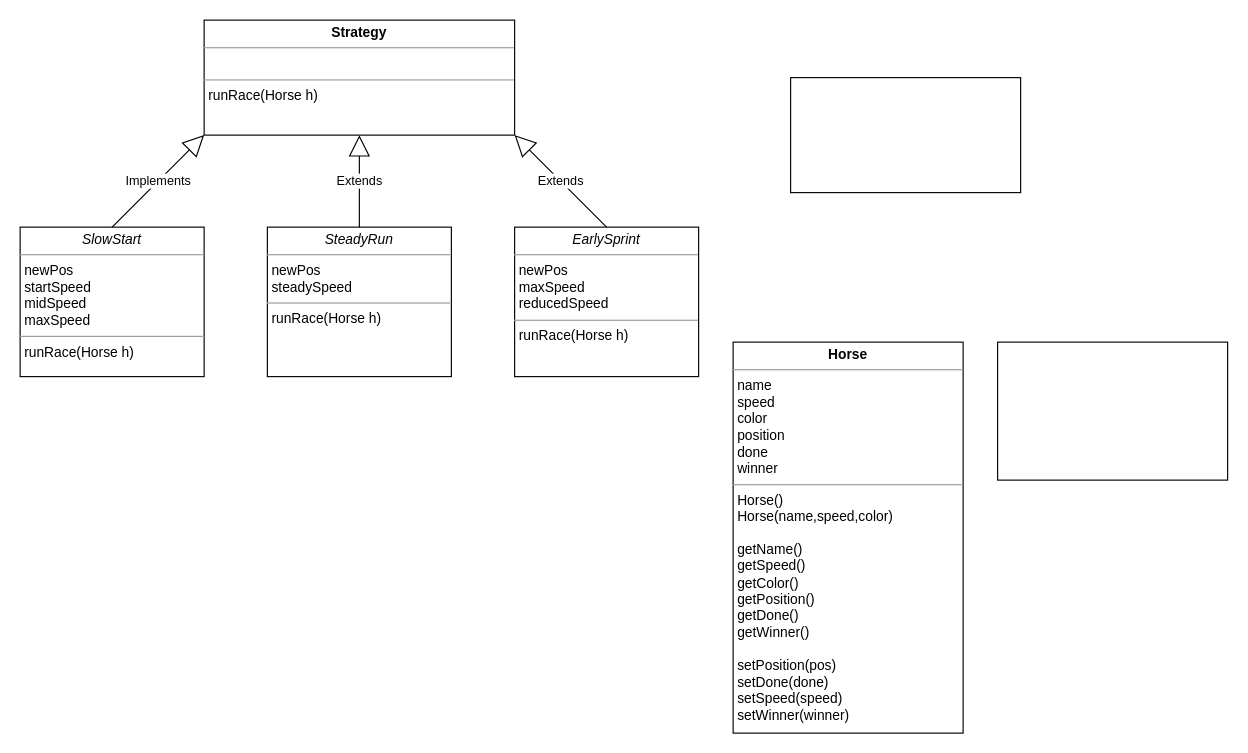
Some shapes in this 1248 by 753 pixel diagram are drawn without their labels. Each missing label, with the box of its shape:
Execution strategy Execution(Strategy strategy) executeStrategy(Horse h): (789, 76, 1021, 193)
Race dummy count Race(): (996, 341, 1228, 480)
